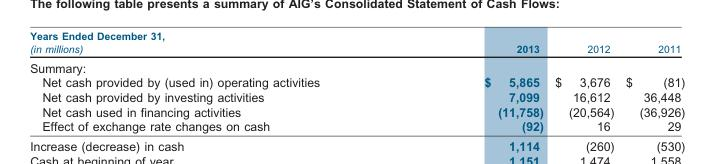table: (29, 29, 684, 132)
table column: (29, 29, 401, 132), (401, 29, 548, 132), (548, 29, 619, 132), (619, 29, 684, 132)
table column header: (29, 29, 684, 57)
table projected row header: (29, 57, 684, 74)
table row: (29, 29, 684, 57), (29, 57, 684, 74), (29, 74, 684, 89), (29, 103, 684, 118), (29, 89, 684, 103), (29, 118, 684, 132)
